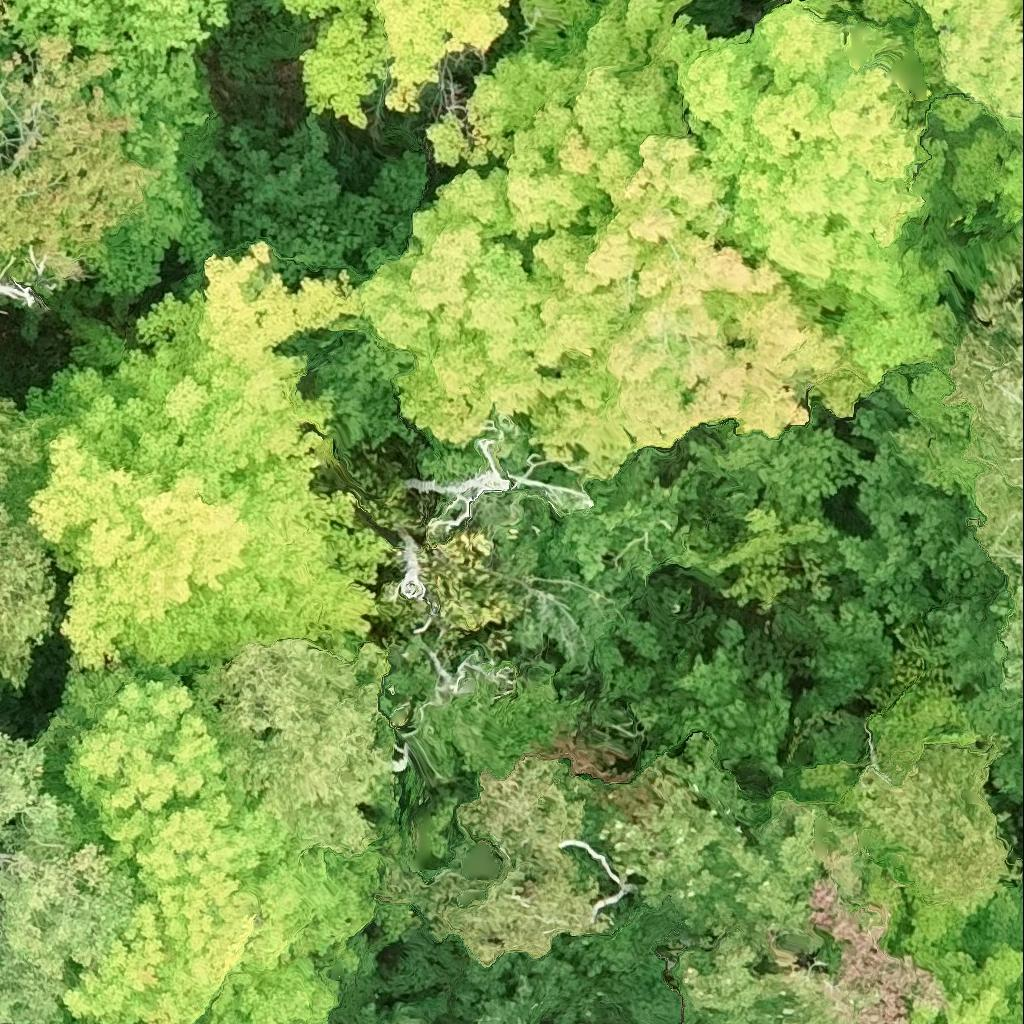crown: (360, 0, 845, 477), (674, 0, 959, 418), (765, 645, 1023, 1023), (27, 429, 391, 675), (29, 238, 372, 483), (57, 804, 325, 1023), (33, 648, 268, 872), (844, 0, 1023, 285), (393, 754, 613, 965), (0, 30, 161, 288), (674, 875, 950, 1023), (685, 390, 864, 612), (191, 849, 410, 1023), (0, 736, 129, 1023), (596, 732, 769, 943), (224, 632, 388, 852), (87, 40, 224, 290), (843, 379, 1001, 594), (884, 574, 1023, 804), (854, 734, 1023, 917), (269, 0, 509, 125), (631, 615, 802, 776), (943, 221, 1023, 557), (733, 788, 862, 968), (406, 434, 595, 534), (770, 583, 897, 729), (884, 344, 982, 504), (10, 0, 227, 54), (0, 493, 56, 686), (0, 392, 49, 497), (991, 554, 1023, 699), (389, 529, 437, 609), (357, 994, 449, 1023), (0, 273, 37, 306), (0, 0, 13, 9), (1022, 854, 1023, 859)
